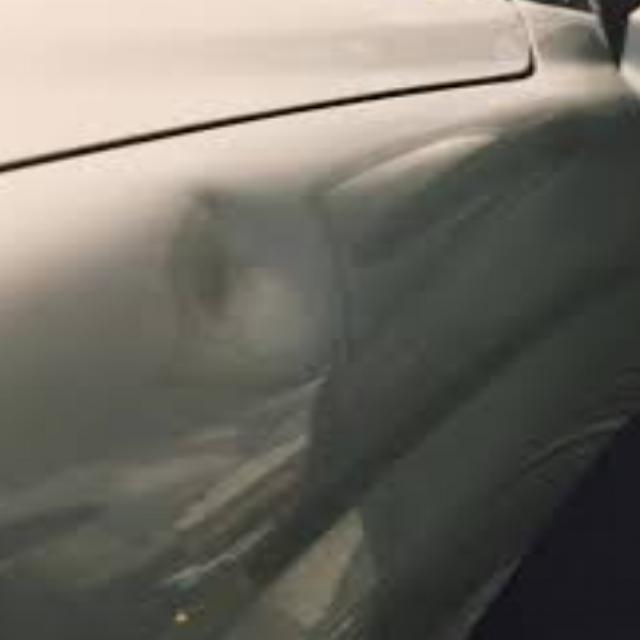dents: (147, 181, 360, 389)
